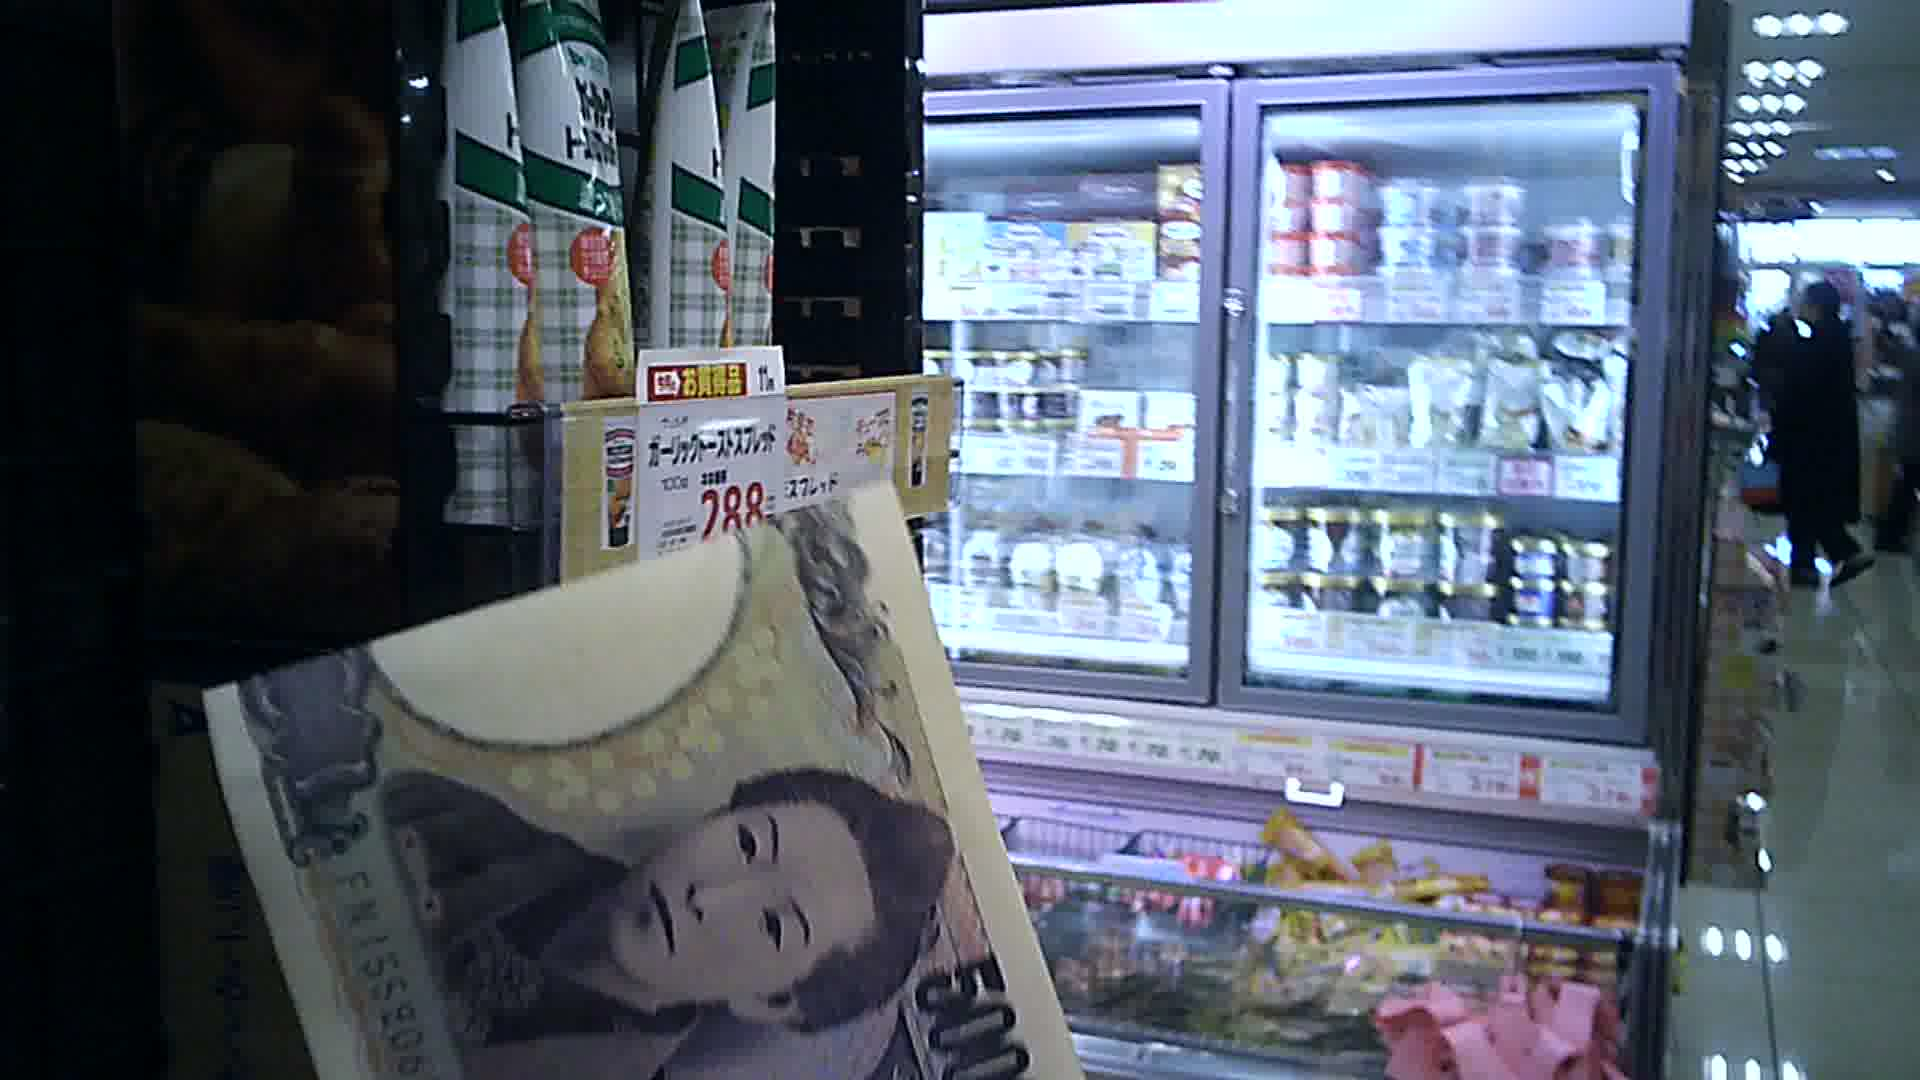5,000 Yen: (194, 516, 1139, 1079)
